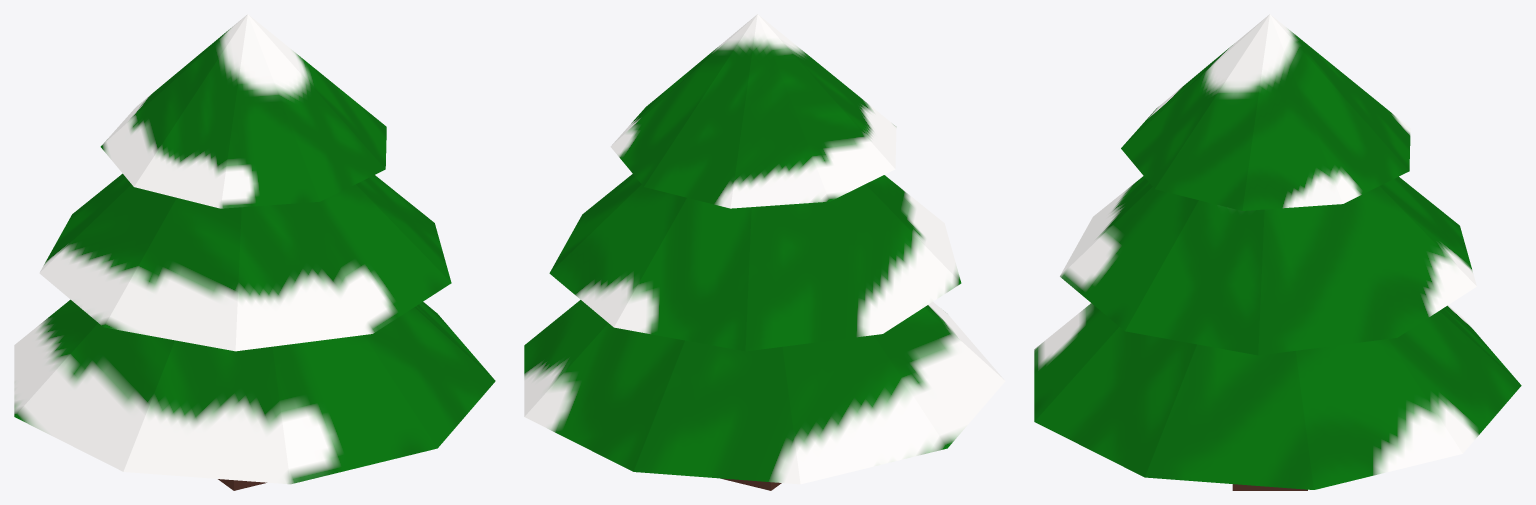
Rendered from tree.glb.
3 renders of one model, left to right at view 1: azimuth 30°, elevation 25°; view 2: azimuth 150°, elevation 25°; view 3: azimuth 270°, elevation 25°, orthographic.
Visible parts, largest first — view 1: Cone, Cone.001, Cone.002; view 2: Cone, Cone.001, Cone.002; view 3: Cone, Cone.001, Cone.002.
Boxes of the visible parts, left/top/right/bottom form: Cone: left=14, top=299, right=495, bottom=484; Cone.001: left=39, top=173, right=451, bottom=351; Cone.002: left=100, top=14, right=386, bottom=208; Cone: left=524, top=300, right=1005, bottom=484; Cone.001: left=549, top=174, right=961, bottom=351; Cone.002: left=610, top=14, right=896, bottom=208; Cone: left=1034, top=303, right=1521, bottom=489; Cone.001: left=1060, top=176, right=1476, bottom=355; Cone.002: left=1121, top=14, right=1410, bottom=210.
Bounding box in the file's own units: 1.97 × 2.03 × 1.94.
Materials: 1 (1 with a texture image).
